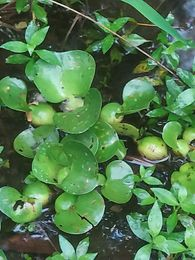water_hyacinth: (1, 52, 175, 238)
